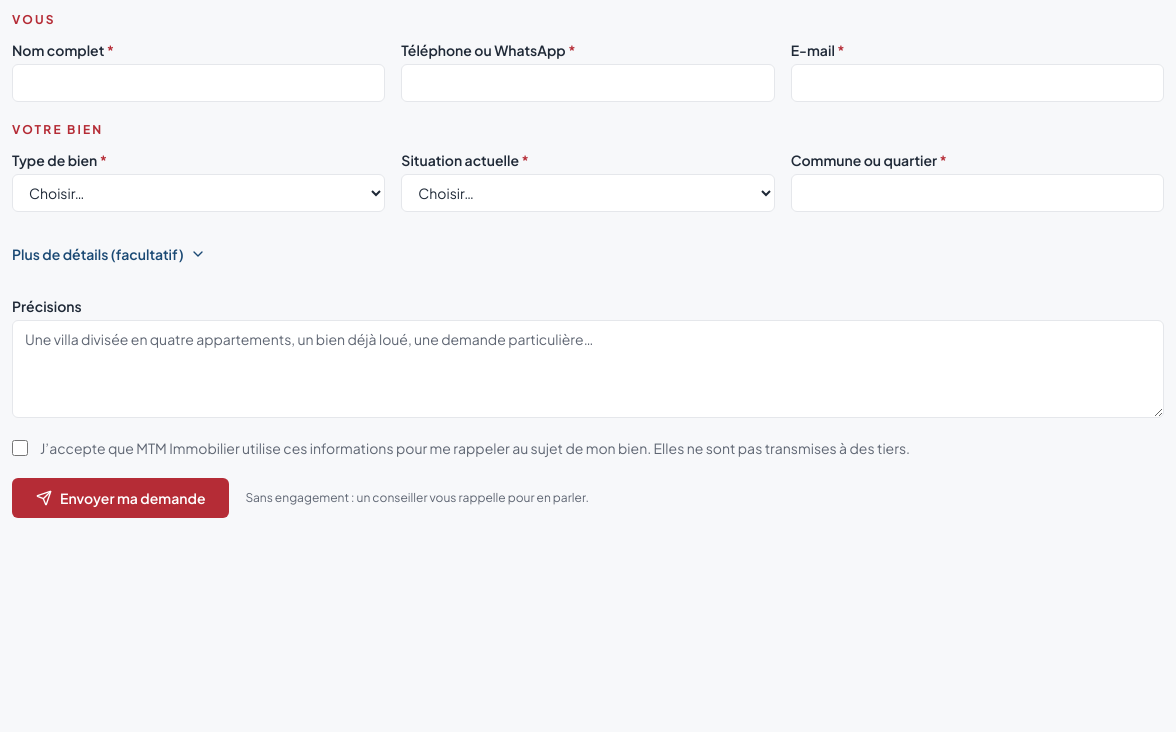
Scenario: FormulaireConfierBien › ne demande le nombre de logements que pour un immeuble ou une villa divisée
Expected: the field labelled "Nombre de logements" is not shown
Select "Immeuble ou villa divisée en plusieurs logements" in the dropdown labelled "Type de bien *". click: x=199, y=193
box: [12,174,385,212]
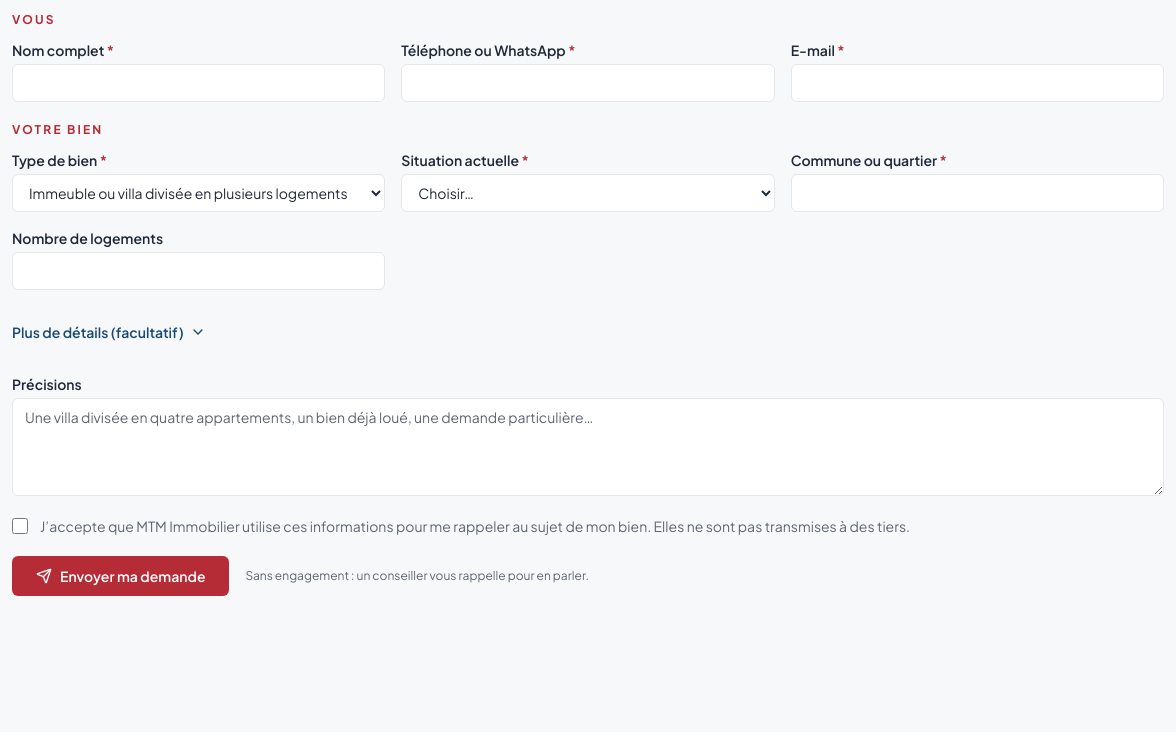
Expected: the number field labelled "Nombre de logements" is shown, [12,252,385,290]
Select "Appartement" in the dropdown labelled "Type de bien *". click: x=199, y=193
box: [12,174,385,212]
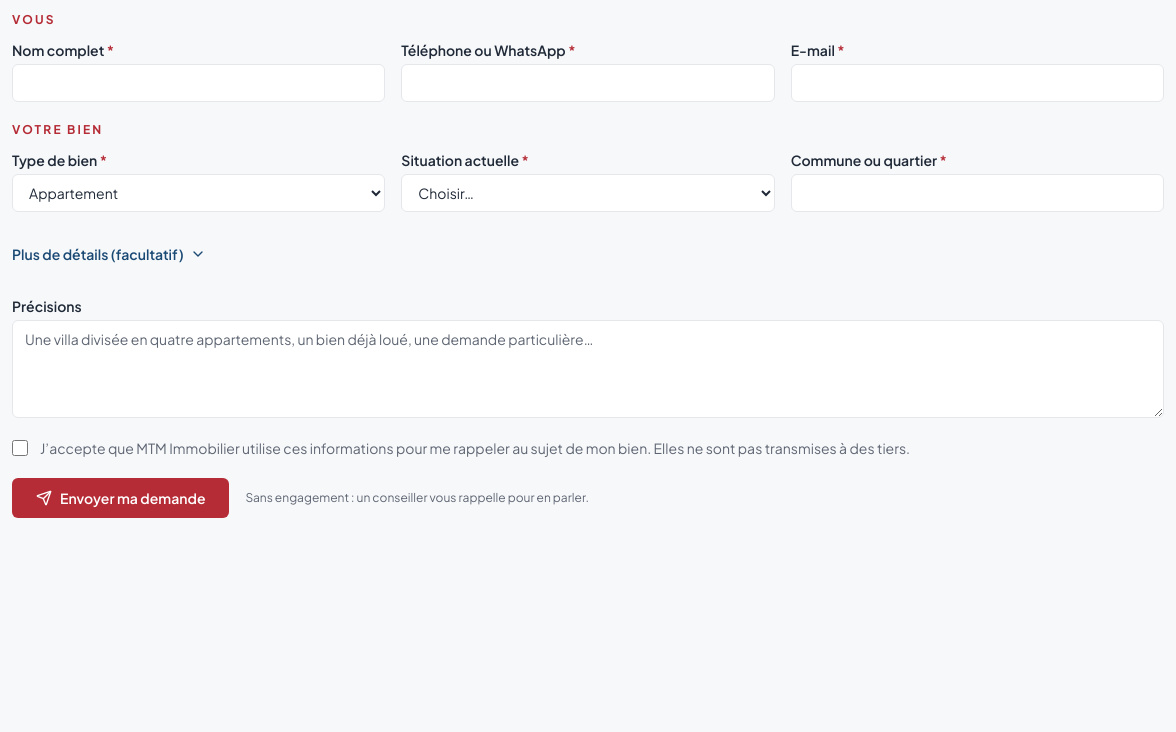
Expected: the label labelled "Nombre de logements" is gone
